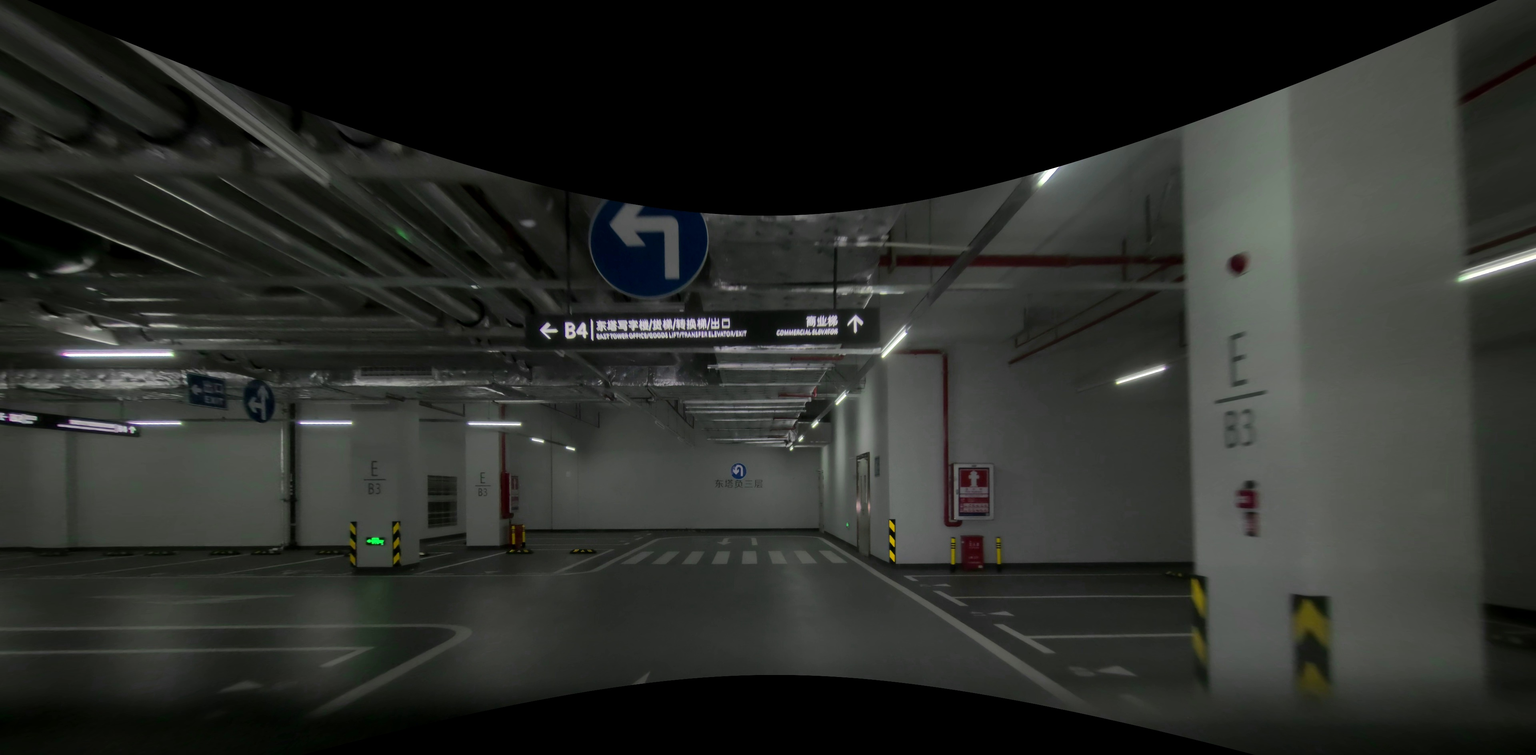B3: (1221, 408, 1255, 447), (366, 483, 381, 495), (476, 486, 490, 497)
B4: (562, 321, 589, 341)
E: (1226, 330, 1247, 387), (369, 460, 381, 476), (477, 471, 488, 483)
EXIT: (204, 396, 224, 404)
exits: (366, 536, 385, 546)
reverses: (719, 534, 763, 546), (730, 463, 746, 478)
上: (258, 384, 269, 420), (846, 315, 865, 335), (127, 425, 137, 435)
东塔写字楼/货梯/转换梯/出口: (596, 315, 730, 333)
东塔负三层: (715, 479, 763, 488)
出口: (204, 382, 224, 392)
商业梯: (805, 314, 840, 327)
左: (586, 199, 706, 299), (610, 205, 679, 277), (537, 321, 559, 340), (187, 384, 201, 395), (248, 398, 259, 412)
左上: (244, 379, 275, 423)
